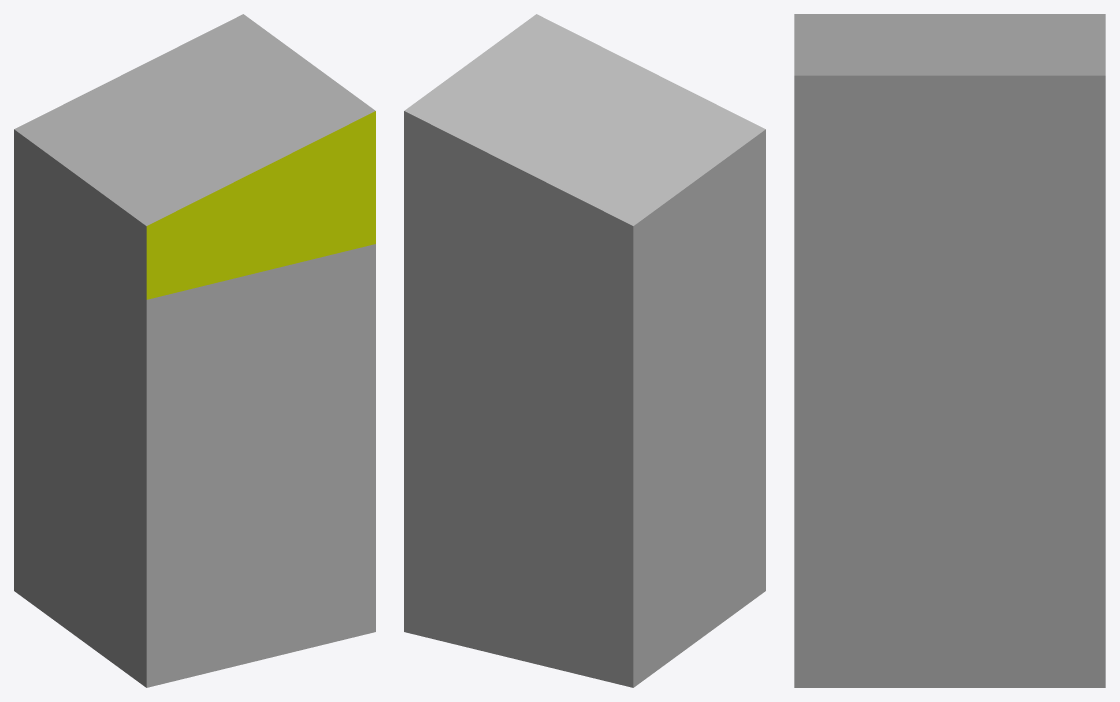
Rendered from CorporateBuilding.fbx.
3 renders of one model, left to right at view 1: azimuth 30°, elevation 25°; view 2: azimuth 150°, elevation 25°; view 3: azimuth 270°, elevation 25°, orthographic. The views are drawn at different scales.
Parts seen in each view (by area): view 1: Cube; view 2: Cube; view 3: Cube.
Part boxes in pixels (x1,y1,x2,y2): Cube: (14, 14, 375, 687); Cube: (404, 14, 765, 687); Cube: (794, 14, 1105, 687).
Size of the model in its own units: 3335 by 7242 by 3335.
